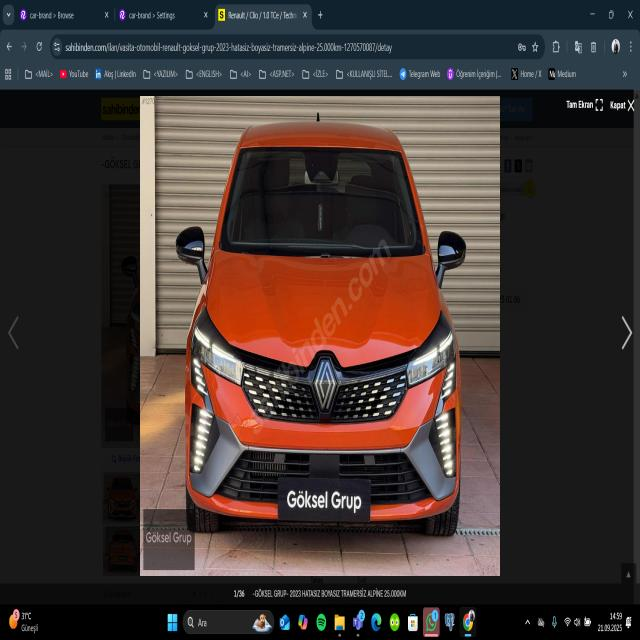renault: (305, 348, 343, 417)
